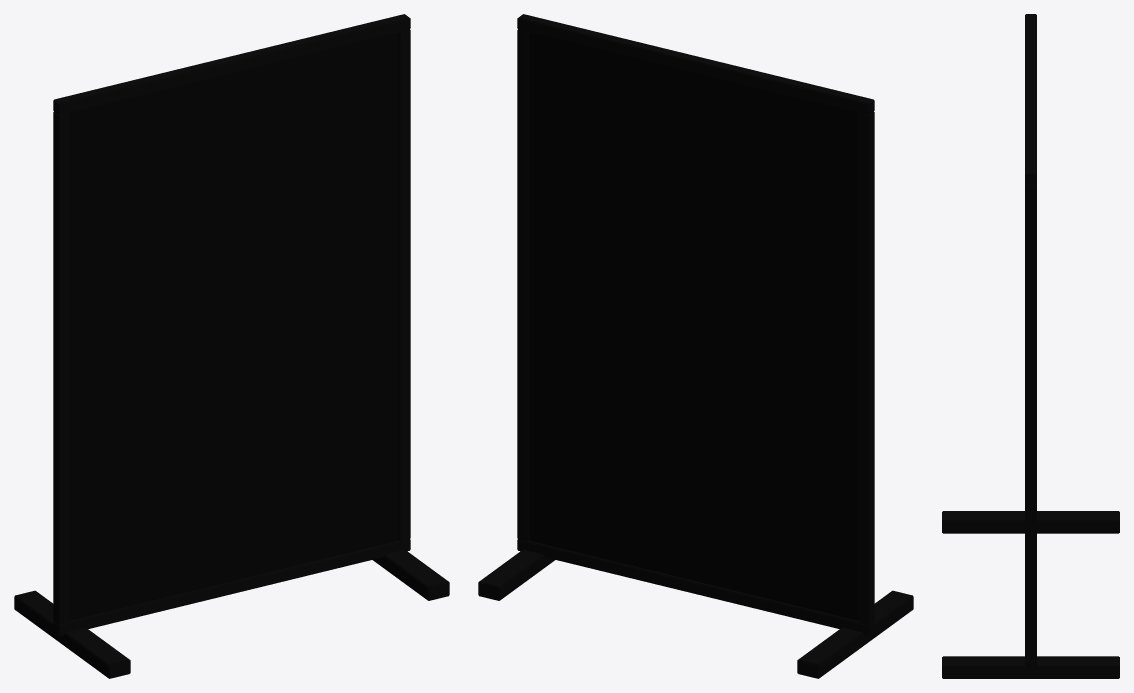
The model's file is obj_wall_black.glb.
3 renders of one model, left to right at view 1: azimuth 30°, elevation 25°; view 2: azimuth 150°, elevation 25°; view 3: azimuth 270°, elevation 25°, orthographic. The views are drawn at different scales.
Parts seen in each view (by area): view 1: wall_black_body; view 2: wall_black_body; view 3: wall_black_body.
Boxes of the visible parts, x1,y1,x2,y2 form: wall_black_body: (14,14,449,678); wall_black_body: (478,14,913,678); wall_black_body: (942,14,1119,678).
Size of the model in its own units: 1.28 by 1.89 by 0.6.
Materials: 1 (1 with a texture image).
